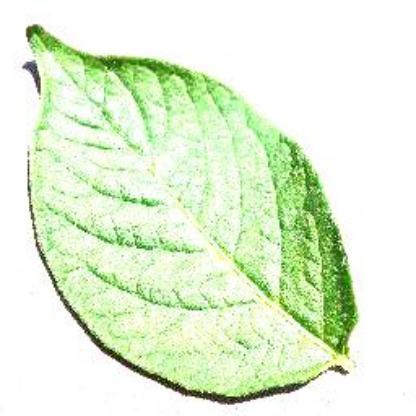Healthy-plant: (12, 14, 362, 400)
